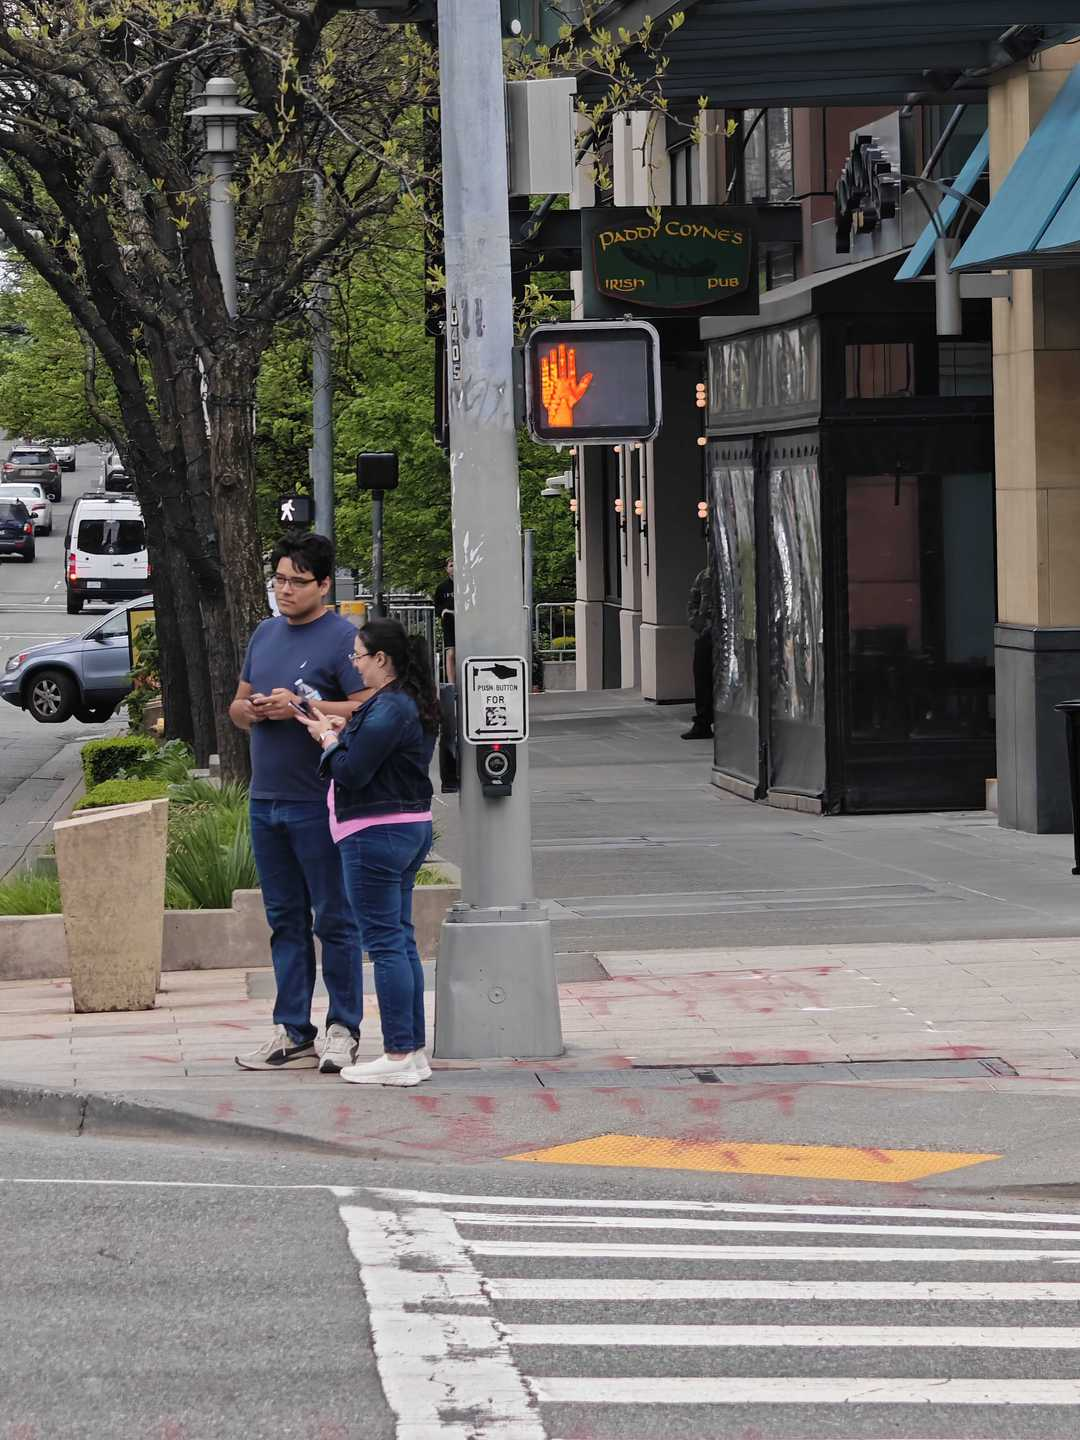ped_button: (463, 655, 532, 796)
